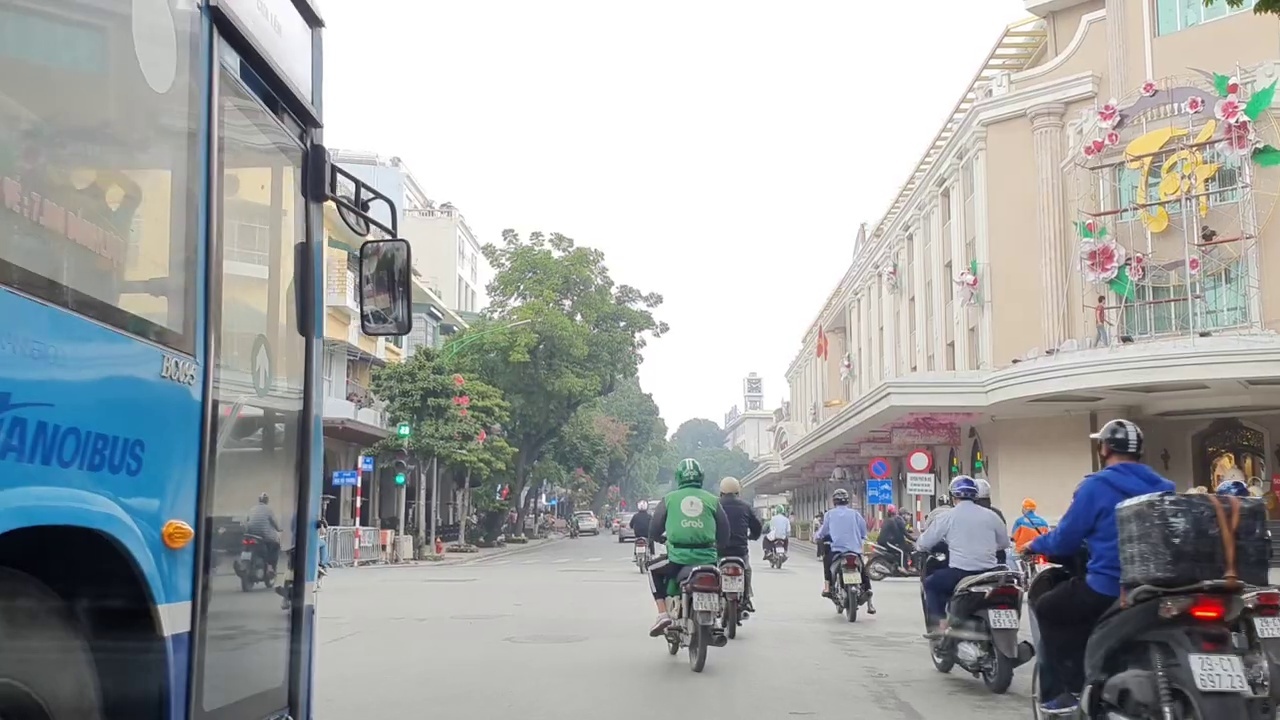vehicle-plate: (985, 608, 1020, 629), (690, 589, 718, 612), (721, 574, 745, 591), (841, 570, 865, 583), (774, 544, 786, 553), (634, 544, 646, 553)
